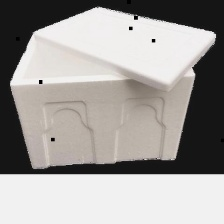foam_box: (5, 2, 218, 172)
